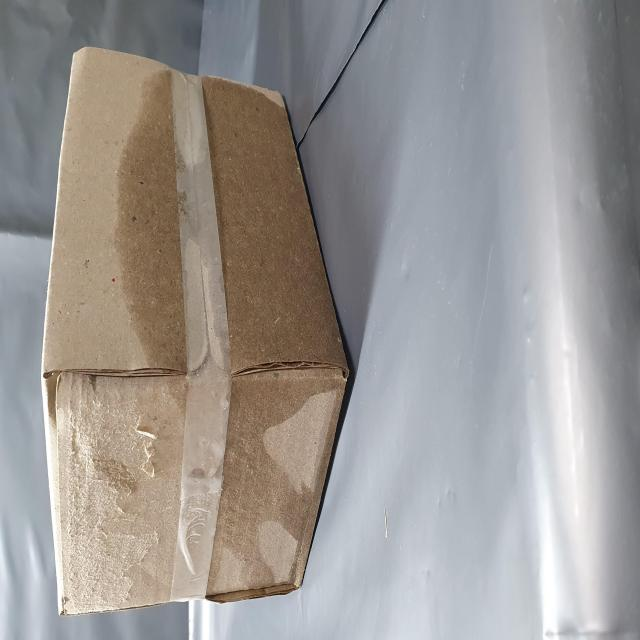wet: (34, 374, 311, 634), (152, 218, 322, 316)
